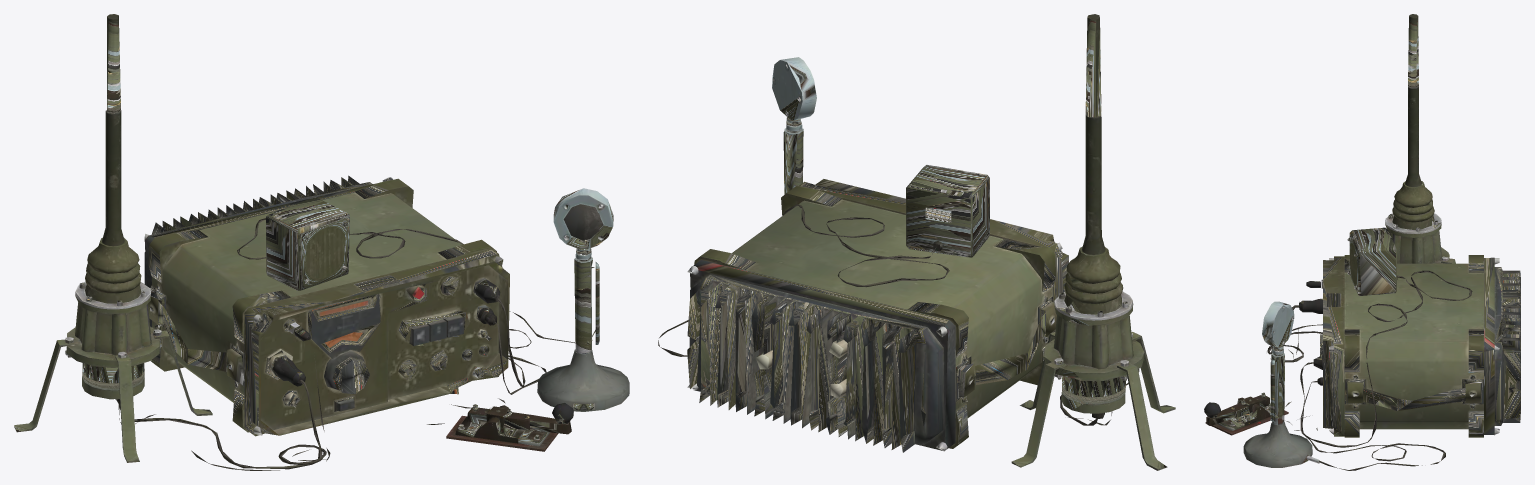
The model's file is vintage_radio_transceiver.glb.
3 renders of one model, left to right at view 1: azimuth 30°, elevation 25°; view 2: azimuth 150°, elevation 25°; view 3: azimuth 270°, elevation 25°, orthographic. The views are drawn at different scales.
Parts seen in each view (by area): view 1: vintage_radio_transceiver, vintage_radio_transceiver_cable; view 2: vintage_radio_transceiver, vintage_radio_transceiver_cable; view 3: vintage_radio_transceiver, vintage_radio_transceiver_cable.
Part boxes in pixels (x1,y1,x2,y2): vintage_radio_transceiver: (144, 175, 509, 436); vintage_radio_transceiver_cable: (14, 14, 629, 470); vintage_radio_transceiver: (687, 179, 1068, 452); vintage_radio_transceiver_cable: (658, 14, 1175, 470); vintage_radio_transceiver: (1320, 255, 1520, 437); vintage_radio_transceiver_cable: (1204, 14, 1472, 470).
Bounding box in the file's own units: 0.574 × 0.4344 × 0.4124.
2 materials, 2 textured.
